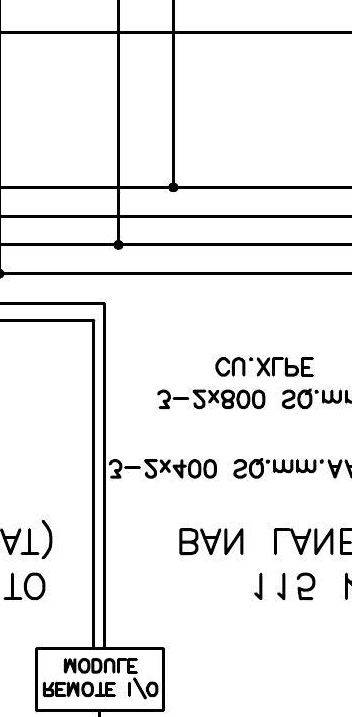remote_io_module: (34, 646, 165, 712)
